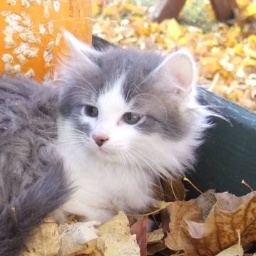cat: (0, 39, 256, 253)
